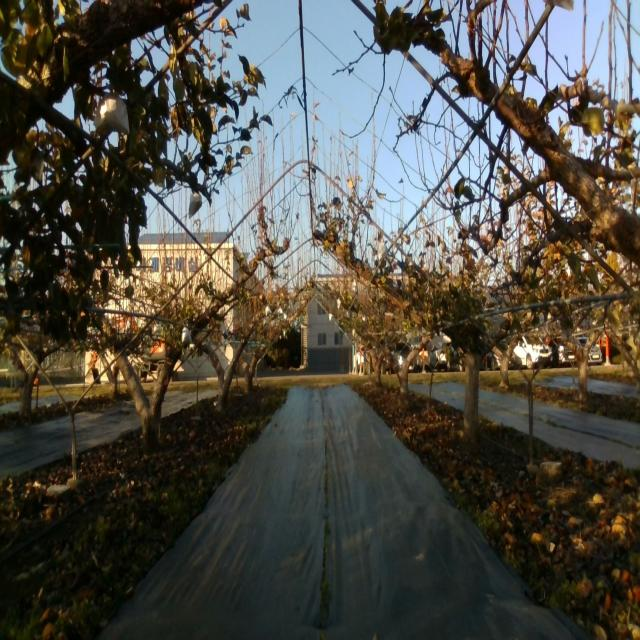pearbags: (93, 92, 130, 136), (188, 192, 202, 220), (377, 238, 387, 262), (181, 326, 193, 344)
